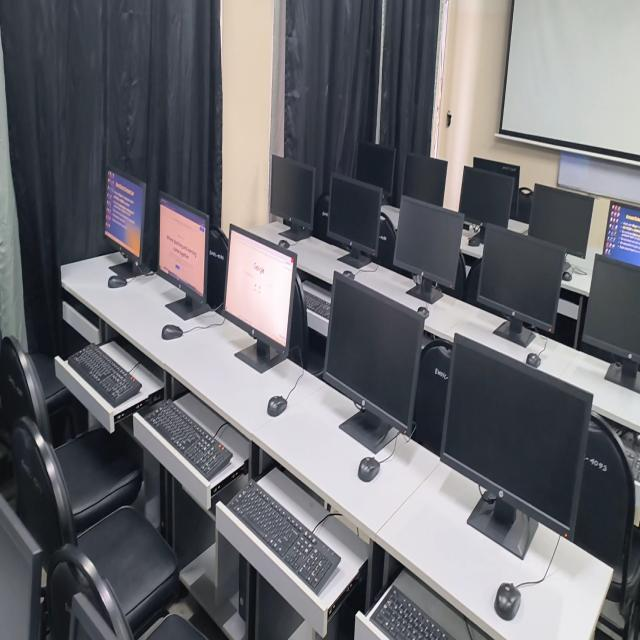Chair: (79, 506, 177, 620), (572, 417, 634, 585), (12, 417, 79, 556), (55, 428, 142, 520), (49, 543, 132, 639), (0, 337, 57, 443), (413, 341, 451, 456), (288, 274, 308, 367), (208, 228, 227, 309), (375, 212, 396, 270)
Keyboard: (226, 481, 340, 594), (145, 400, 232, 481), (68, 344, 141, 407), (371, 586, 455, 639), (304, 290, 330, 319)
Monitor: (439, 334, 592, 559), (323, 279, 426, 453), (477, 224, 565, 347), (578, 255, 640, 392), (225, 231, 294, 347), (393, 196, 465, 303), (159, 194, 209, 309), (327, 174, 382, 268), (528, 184, 594, 258), (105, 169, 145, 260), (459, 167, 514, 228), (270, 155, 315, 229), (473, 158, 519, 219), (403, 153, 447, 206), (603, 202, 640, 265), (356, 142, 395, 201)
Mouse: (494, 583, 521, 620), (358, 457, 380, 482), (267, 395, 287, 417), (468, 225, 485, 247), (162, 324, 183, 340), (108, 274, 127, 288), (562, 270, 572, 281), (529, 360, 536, 366)
